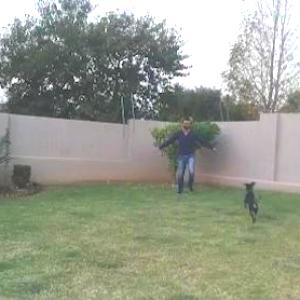land: (158, 107, 228, 203)
